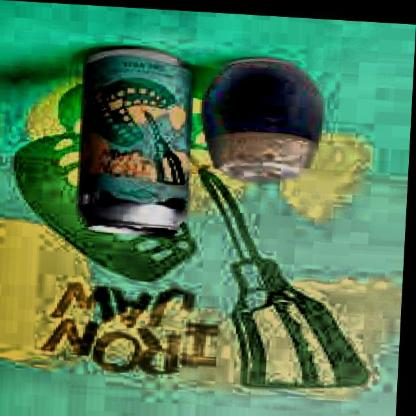Can: (68, 36, 200, 238)
